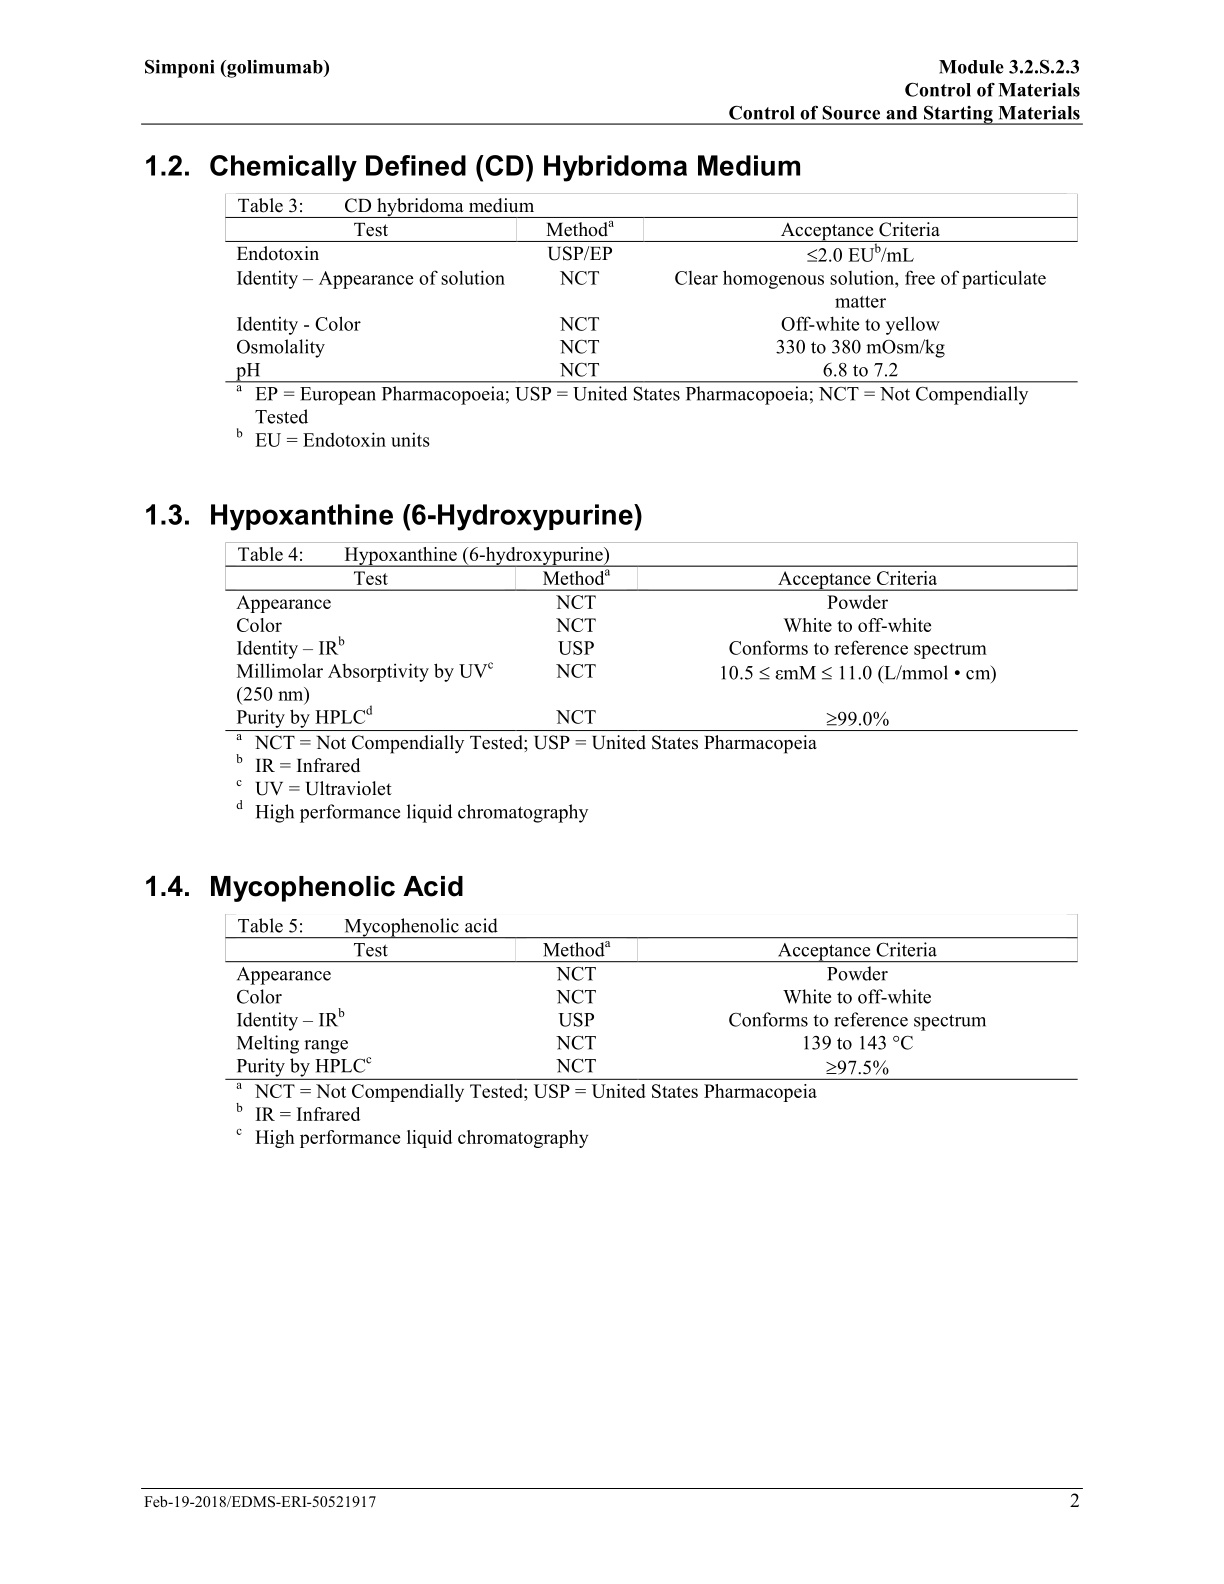partial_lined_merged_cells: (224, 192, 1079, 384), (222, 541, 1079, 732), (222, 912, 1079, 1081)
